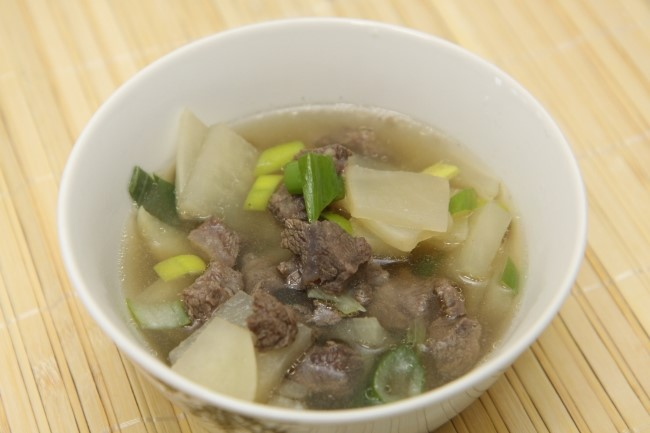mugug: (115, 99, 527, 416)
